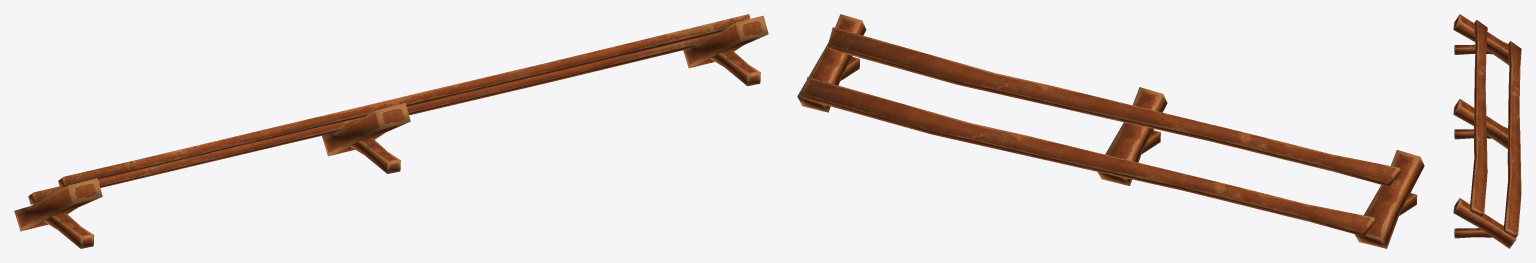
File: market_stall_overhang_support.fbx
The picture shows the model from 3 angles, left to right: view 1: azimuth 30°, elevation 25°; view 2: azimuth 150°, elevation 25°; view 3: azimuth 270°, elevation 25°; orthographic projection. The views are drawn at different scales.
Parts seen in each view (by area): view 1: WoodPlank_02__1_, WoodPlank_02, Stake_02__1_, Stake_02__2_, Stake_02, Stake_02__5_, Stake_02__3_, Stake_02__4_; view 2: WoodPlank_02, WoodPlank_02__1_, Stake_02__2_, Stake_02__1_, Stake_02; view 3: WoodPlank_02__1_, WoodPlank_02, Stake_02, Stake_02__2_, Stake_02__1_, Stake_02__5_, Stake_02__4_, Stake_02__3_.
Boxes of the visible parts, x1,y1,x2,y2 form: WoodPlank_02__1_: (58, 14, 750, 188); WoodPlank_02: (28, 34, 713, 204); Stake_02__1_: (322, 103, 410, 156); Stake_02__2_: (14, 178, 102, 231); Stake_02: (683, 15, 768, 68); Stake_02__5_: (710, 50, 760, 86); Stake_02__3_: (350, 138, 400, 173); Stake_02__4_: (43, 213, 94, 248); WoodPlank_02: (802, 77, 1375, 236); WoodPlank_02__1_: (828, 27, 1401, 186); Stake_02__2_: (1355, 150, 1424, 248); Stake_02__1_: (1098, 87, 1167, 185); Stake_02: (797, 14, 866, 112); WoodPlank_02__1_: (1470, 20, 1487, 216); WoodPlank_02: (1504, 41, 1521, 237); Stake_02: (1453, 198, 1516, 248); Stake_02__2_: (1453, 14, 1508, 65); Stake_02__1_: (1453, 99, 1507, 149); Stake_02__5_: (1454, 228, 1492, 238); Stake_02__4_: (1454, 44, 1492, 54); Stake_02__3_: (1454, 129, 1491, 139).
Bounding box in the file's own units: 753 × 80.36 × 113.
